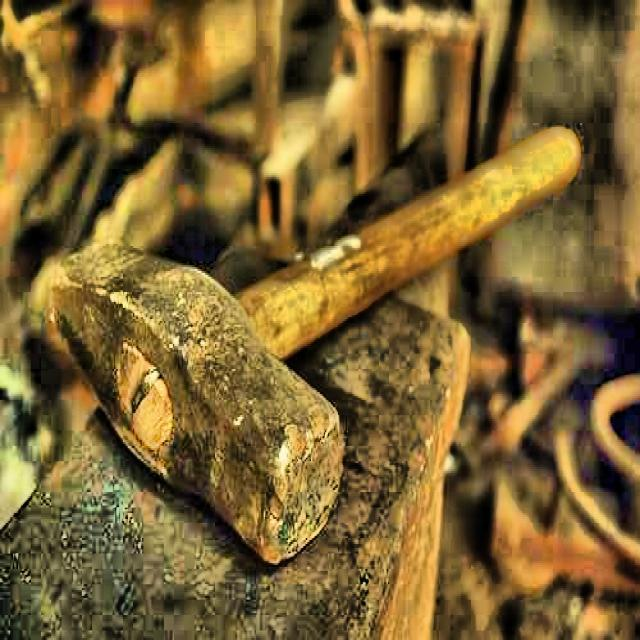hammer: (50, 125, 582, 567)
